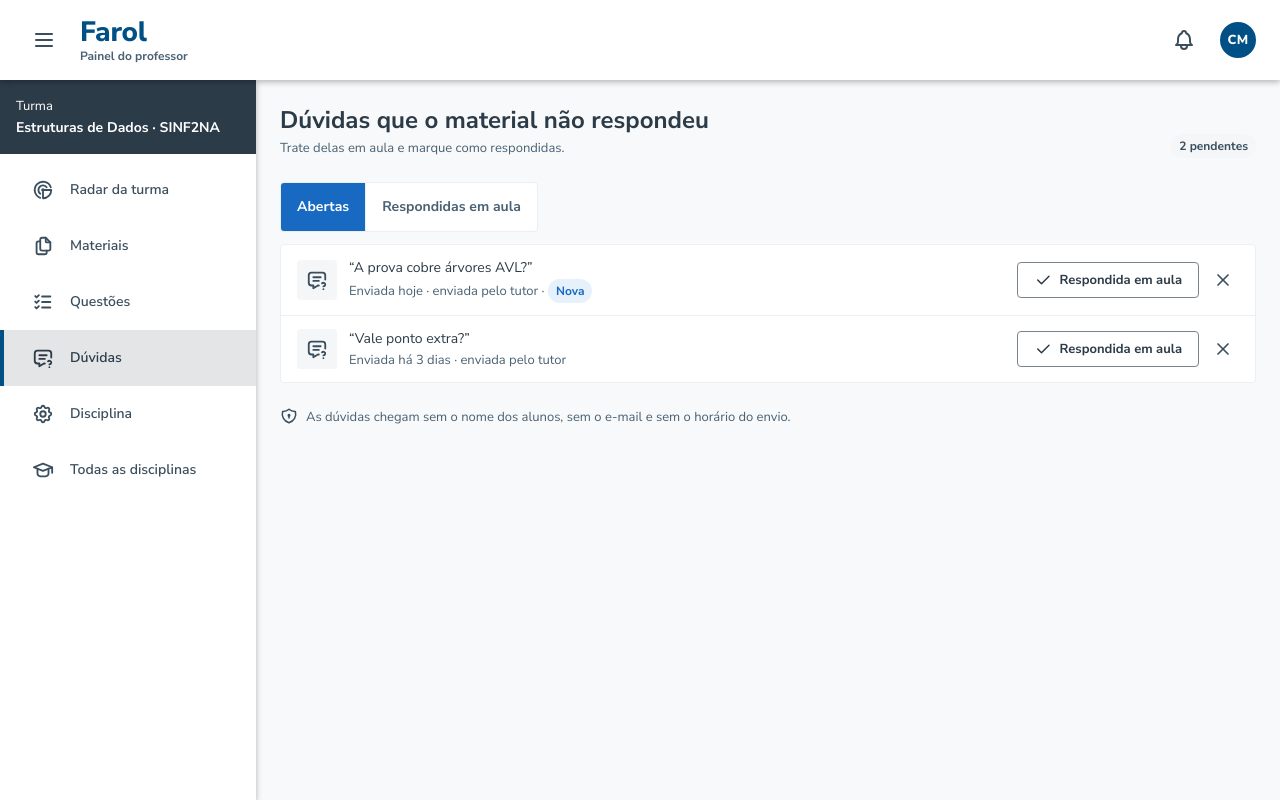
it: dúvidas da turma para o professor (DUV-T23) › oculta a dúvida ofensiva
Click the button named "Ocultar a dúvida: Vale ponto extra?".
click(1223, 349)  # box left=1207, top=333, right=1239, bottom=365
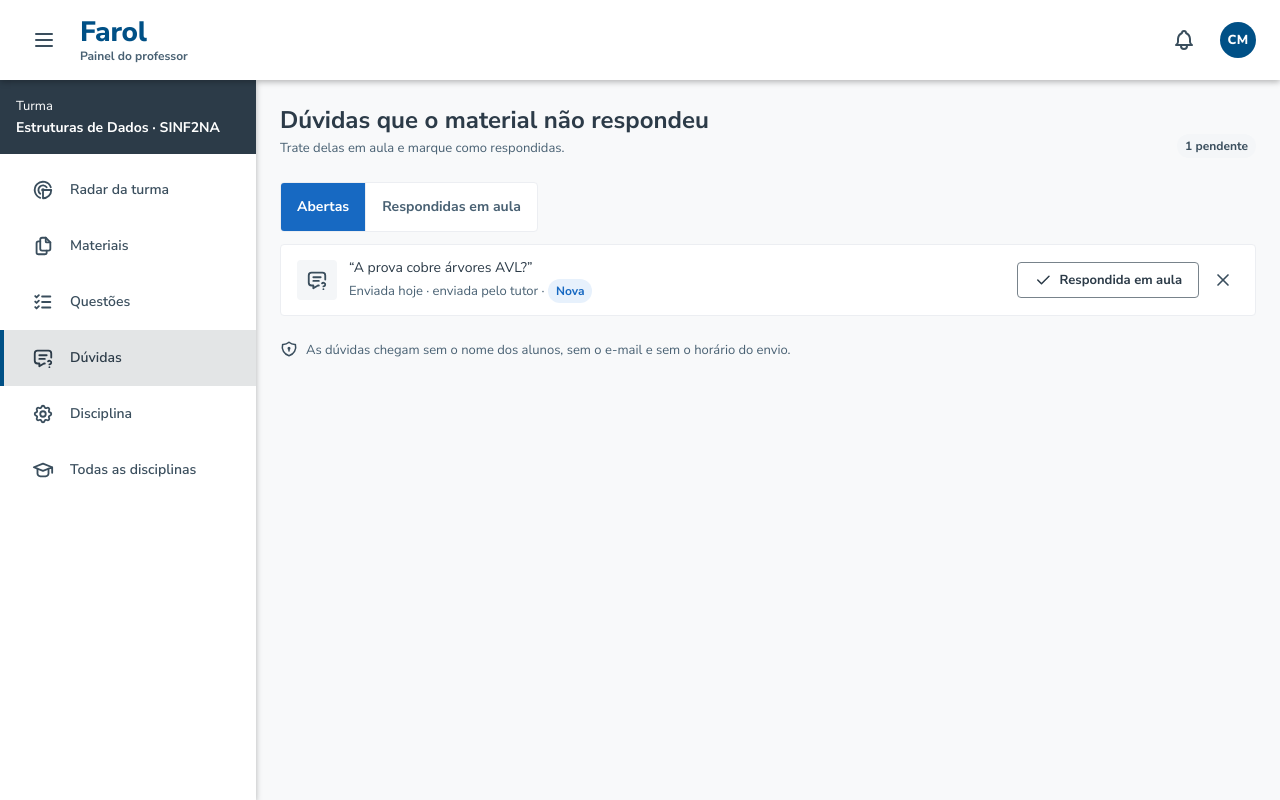
expect the text "Vale ponto extra?" is gone: met
